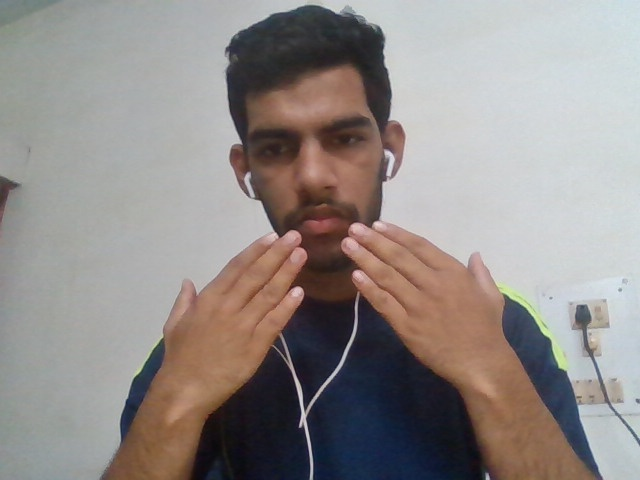thanks: (157, 215, 535, 384)
